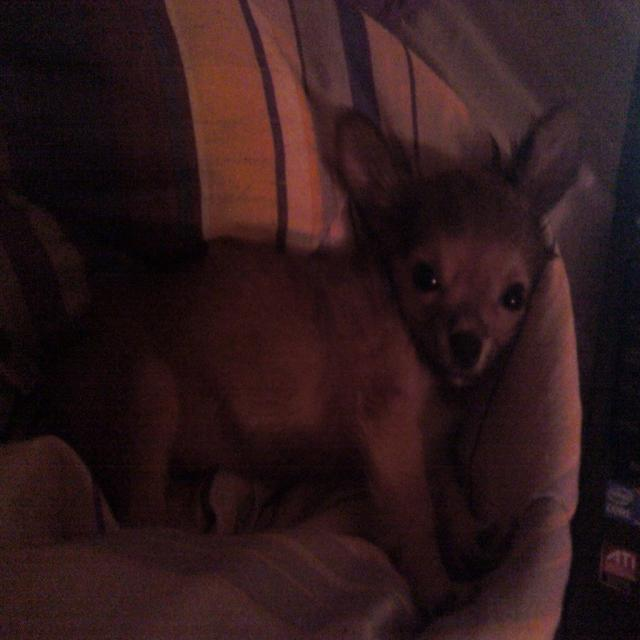Dog: (104, 71, 610, 603)
